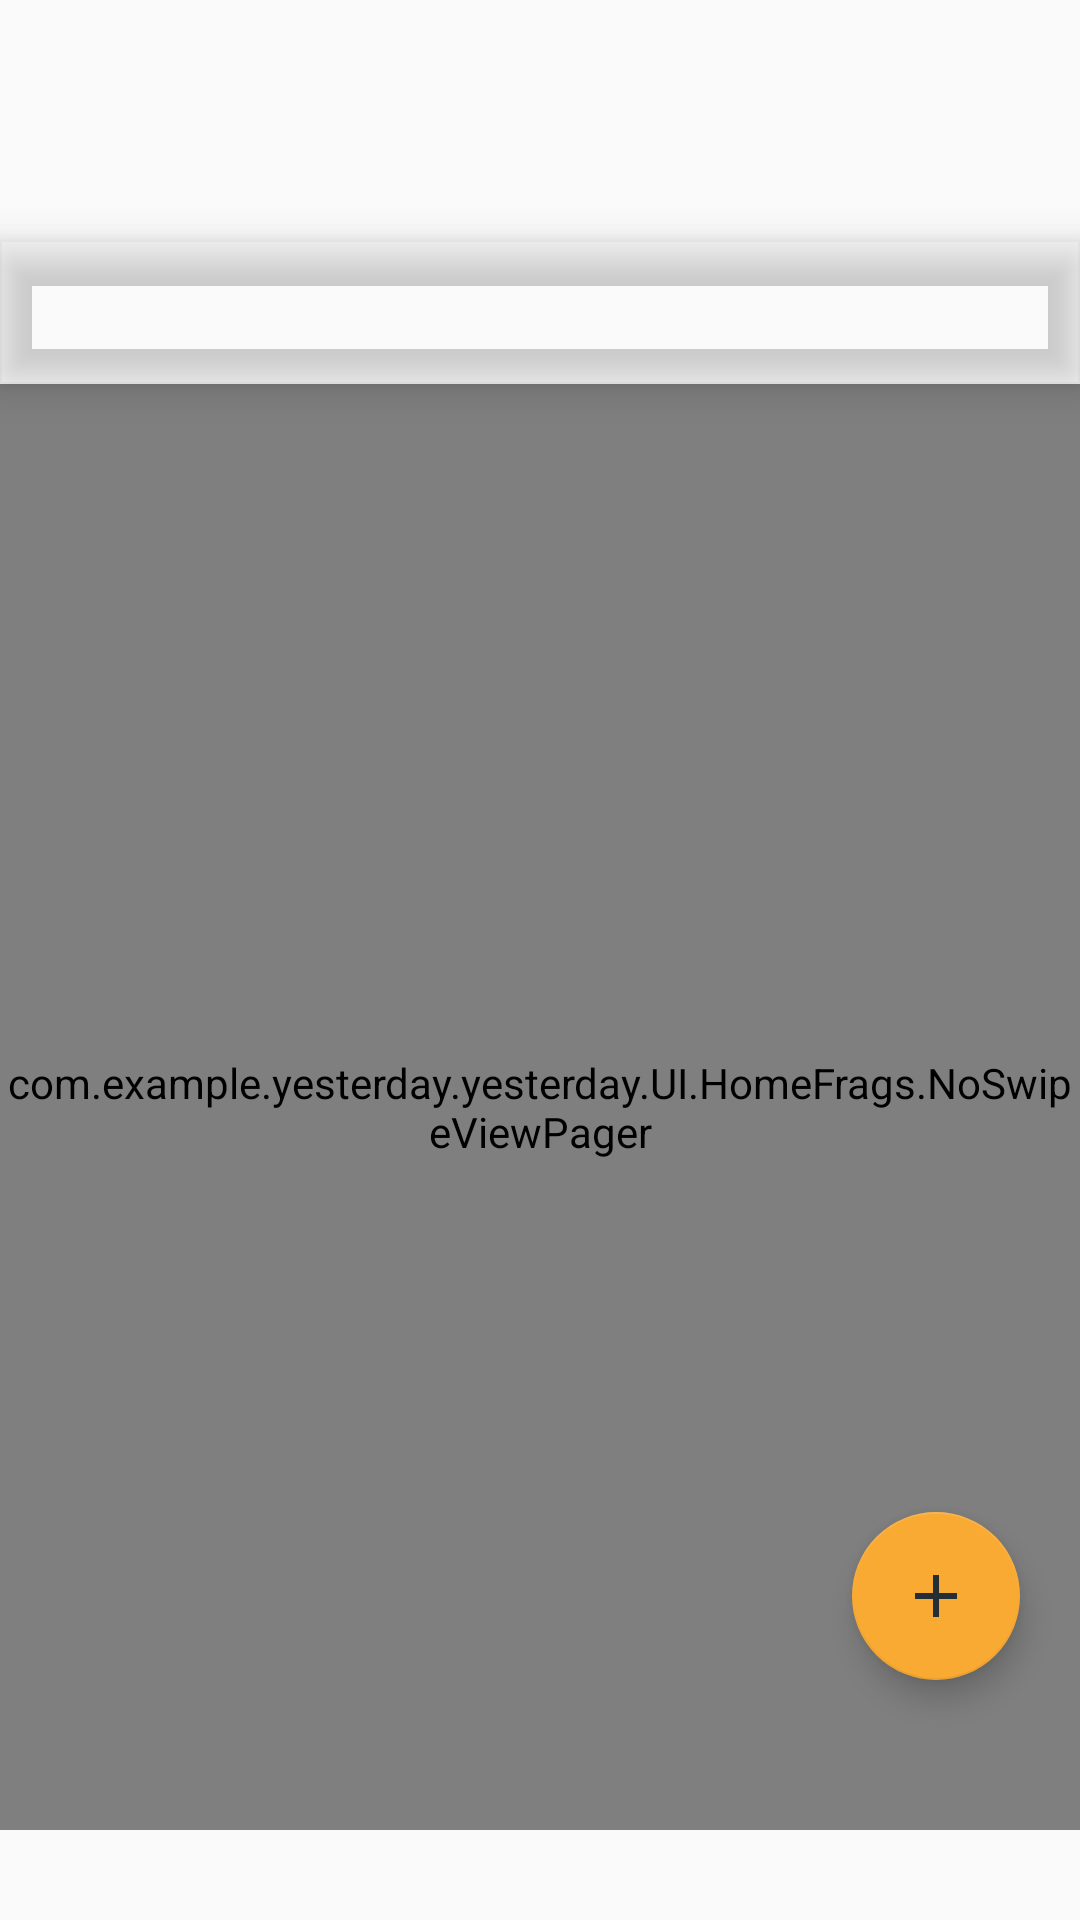

Where to tap for icons on this 1080px×1920px app screen, as point (x, y):
add: point (936, 1596)
